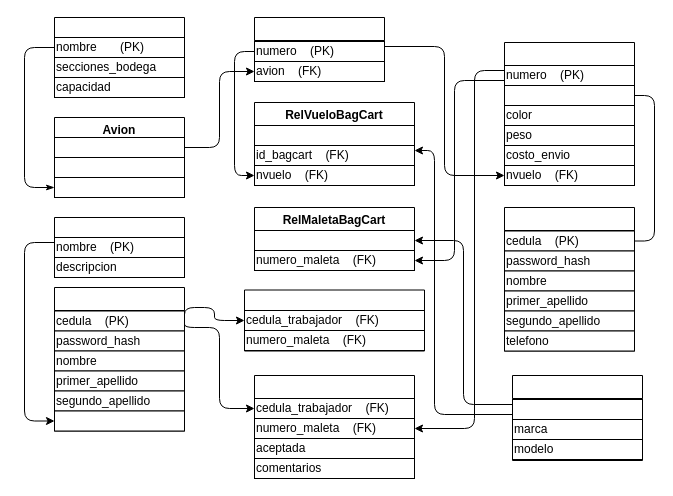
Image size: 673x496. Some labels were removed from this diagram. The shapes that lost their labels are listed below. From the top down, each one's box as (x1, y1, x2, y2) in pixels, then its label:
(54, 16, 184, 98): TipoAvion
(254, 16, 384, 82): Vuelo
(504, 84, 634, 106): cedula_usuario (FK)
(504, 42, 634, 186): Maleta
(54, 136, 184, 158): nserie (PK)
(254, 124, 414, 146): sello (PK)
(54, 156, 184, 178): horas_uso
(54, 176, 184, 198): modelo (FK)
(54, 216, 184, 278): Rol
(254, 230, 414, 250): id_bacgcart (FK)
(504, 206, 634, 351): Usuario
(244, 289, 424, 351): RelScanAsignacionMaleta
(54, 286, 184, 431): Trabajador
(54, 410, 184, 431): rol (FK)
(254, 374, 414, 478): RelScanRayosXMaleta
(512, 398, 642, 420): id (PK)
(512, 374, 642, 460): BagCart
